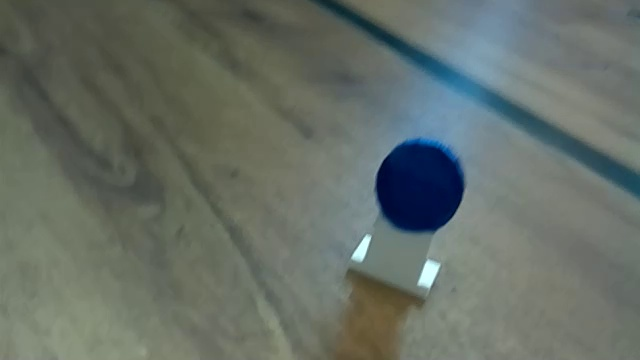circle: (341, 127, 475, 312)
